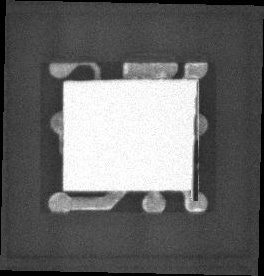DIE_BROKEN: (190, 113, 201, 203)
